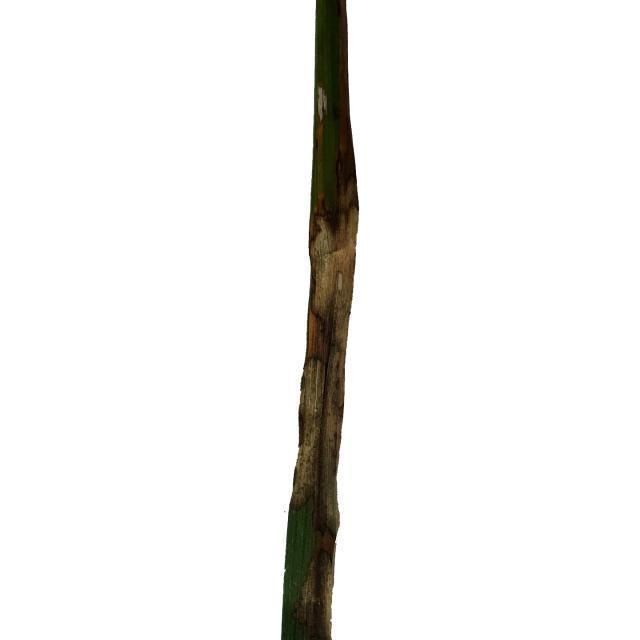Bacterial_Leaf_Blight: (293, 333, 347, 502), (302, 187, 362, 332), (313, 522, 347, 632)
